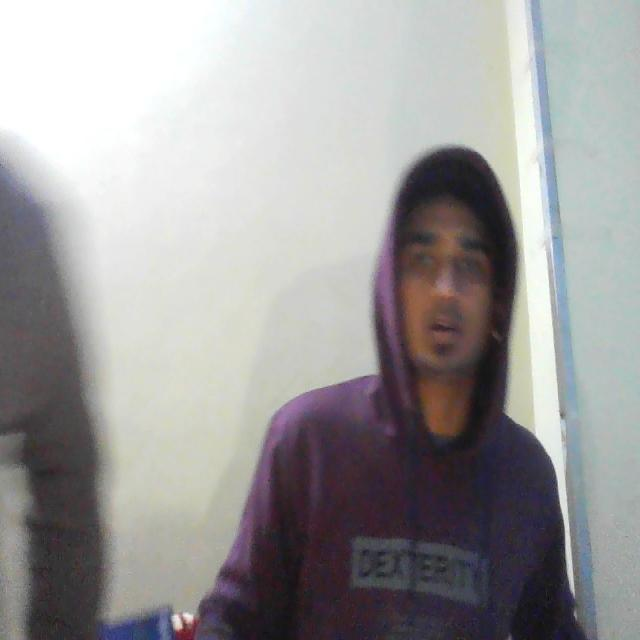real: (390, 160, 510, 387)
